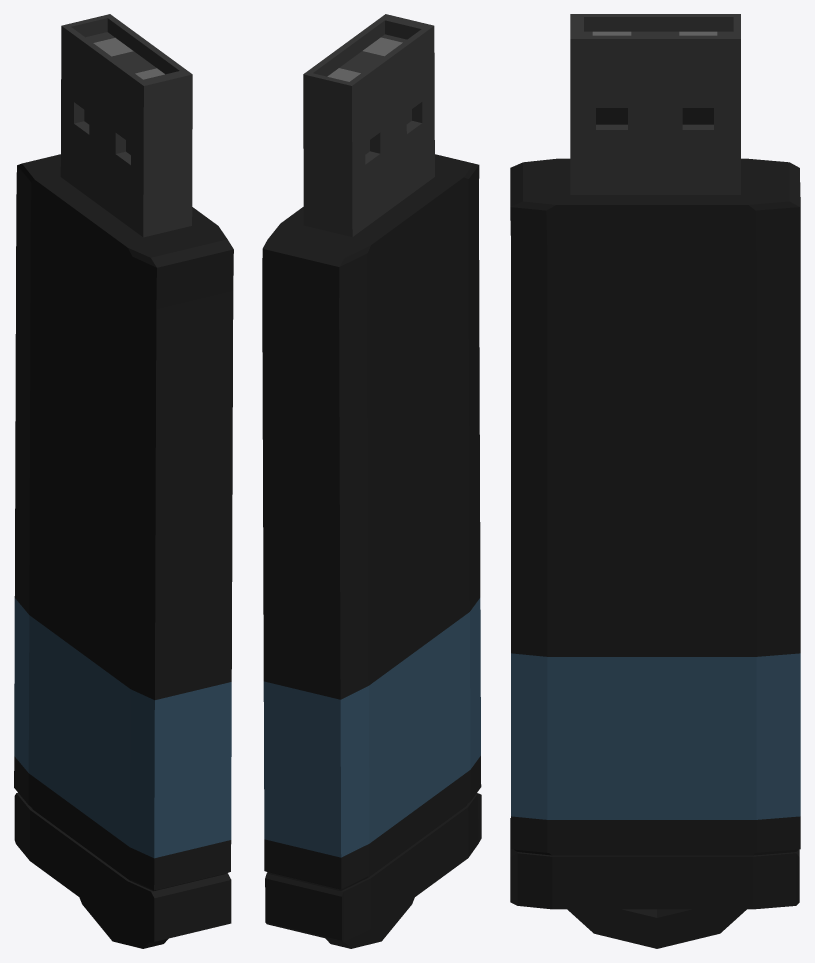
Rendered from USB.fbx.
3 renders of one model, left to right at view 1: azimuth 30°, elevation 25°; view 2: azimuth 150°, elevation 25°; view 3: azimuth 270°, elevation 25°, orthographic. The views are drawn at different scales.
Parts seen in each view (by area): view 1: USB_Body, USB; view 2: USB_Body, USB; view 3: USB_Body, USB.
Part boxes in pixels (box(x1,y1,x2,y2)): USB_Body: box(14, 154, 233, 948); USB: box(60, 14, 192, 237); USB_Body: box(262, 154, 481, 948); USB: box(303, 14, 434, 236); USB_Body: box(510, 158, 800, 948); USB: box(570, 14, 740, 194).
Size of the model in its own units: 65.45 by 596 by 171.
